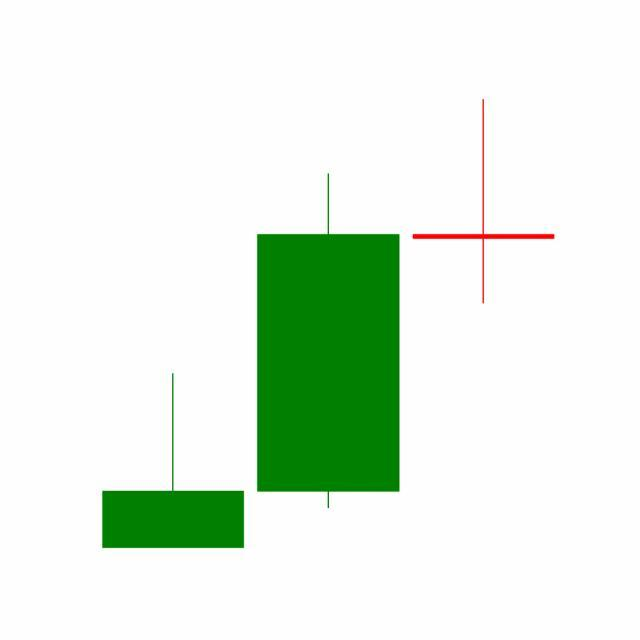Marubozu: (250, 170, 407, 513)
